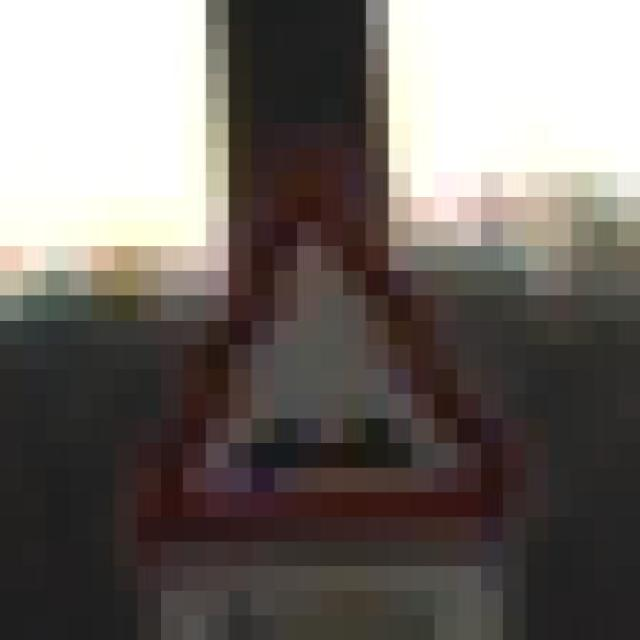Uneven Road: (91, 148, 526, 566)
